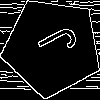J: (27, 22, 80, 66)
